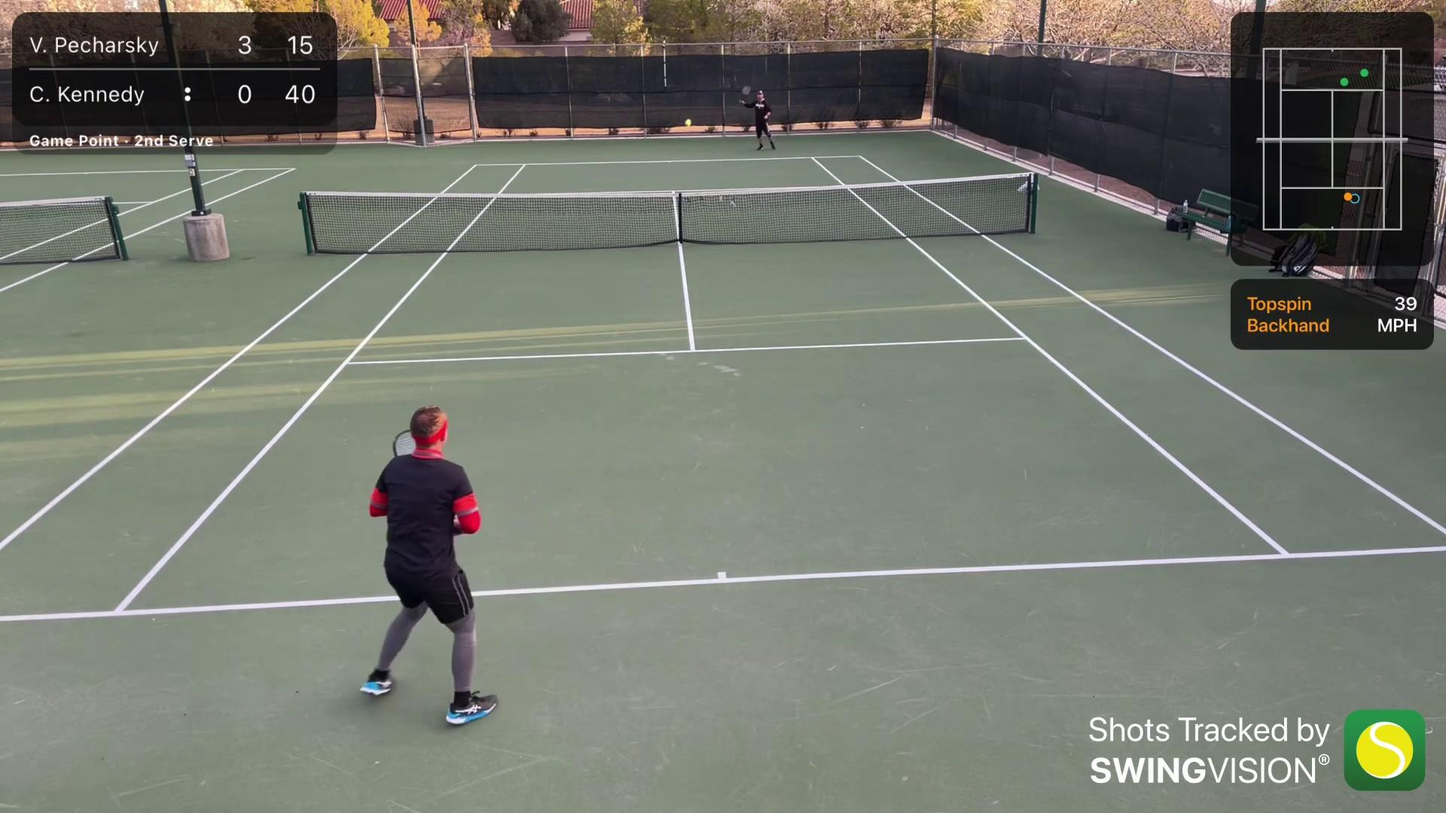ball: (683, 118, 693, 127)
